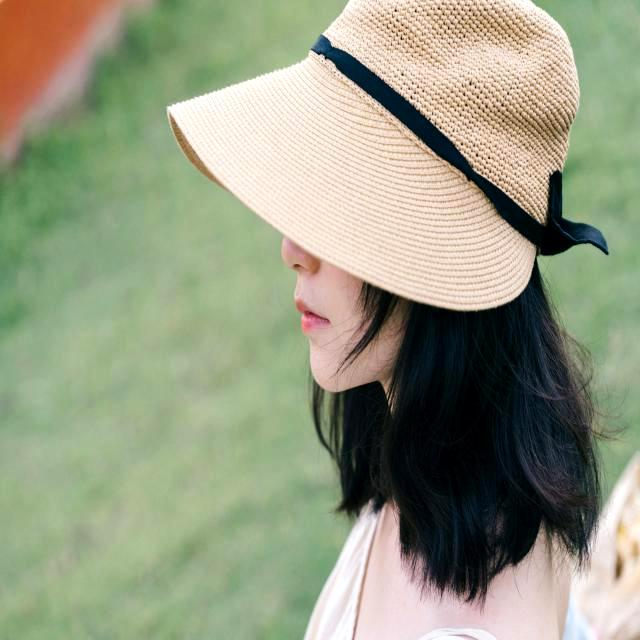no_hard_hat: (168, 0, 608, 311)
person: (168, 0, 608, 640)
